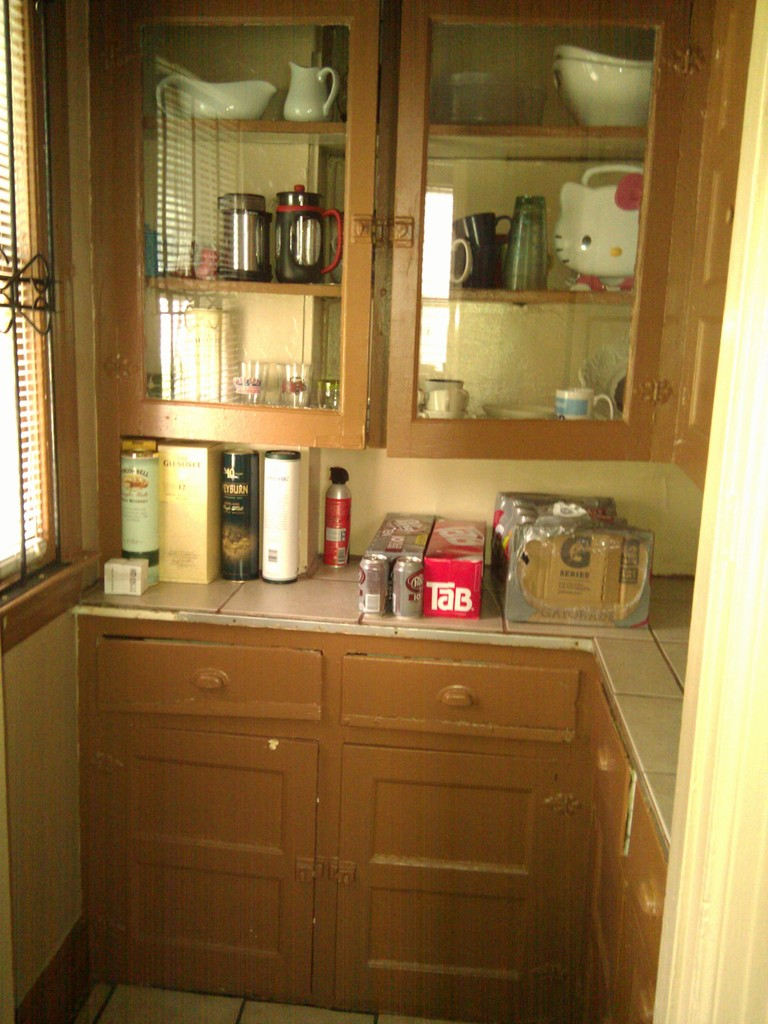cabinet door: (122, 34, 367, 441), (399, 80, 662, 454), (342, 752, 567, 990), (115, 727, 316, 971), (102, 633, 326, 722), (349, 657, 569, 738), (581, 693, 625, 799), (633, 838, 674, 946)
handle: (591, 728, 614, 781), (640, 869, 659, 930), (195, 664, 227, 698), (442, 681, 474, 715)
